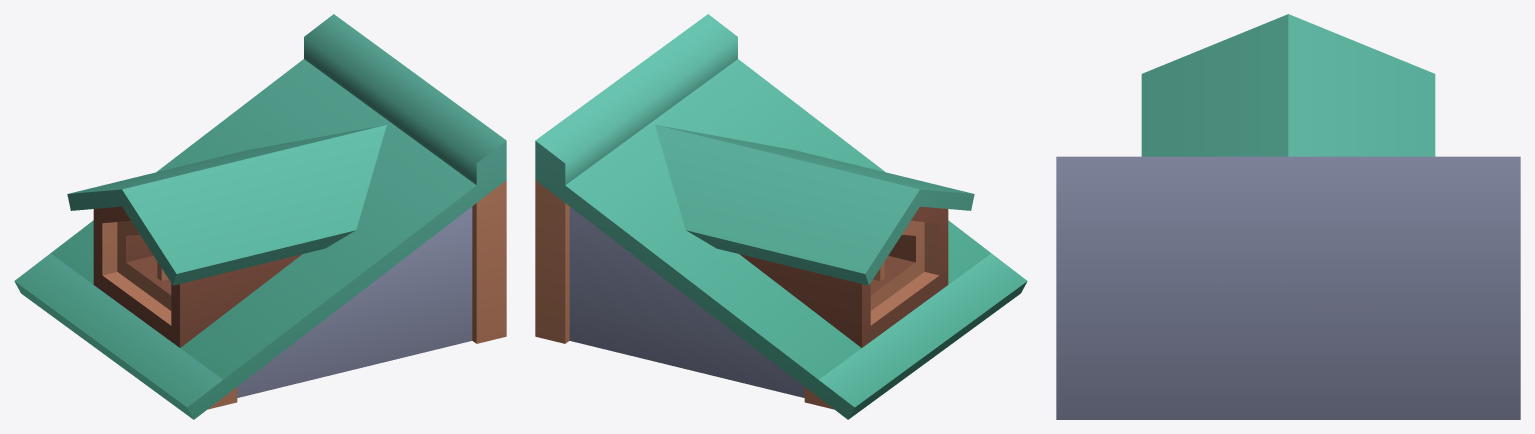
The model's file is roof-window.glb.
3 renders of one model, left to right at view 1: azimuth 30°, elevation 25°; view 2: azimuth 150°, elevation 25°; view 3: azimuth 270°, elevation 25°, orthographic. The views are drawn at different scales.
Visible parts, largest first — view 1: roof-window; view 2: roof-window; view 3: roof-window.
Boxes of the visible parts, box(x1,y1,x2,y2) form: roof-window: box(14, 14, 506, 419); roof-window: box(535, 14, 1027, 419); roof-window: box(1056, 14, 1520, 419).
Bounding box in the file's own units: 1.07 × 0.6483 × 1.
Materials: 1 (1 with a texture image).
